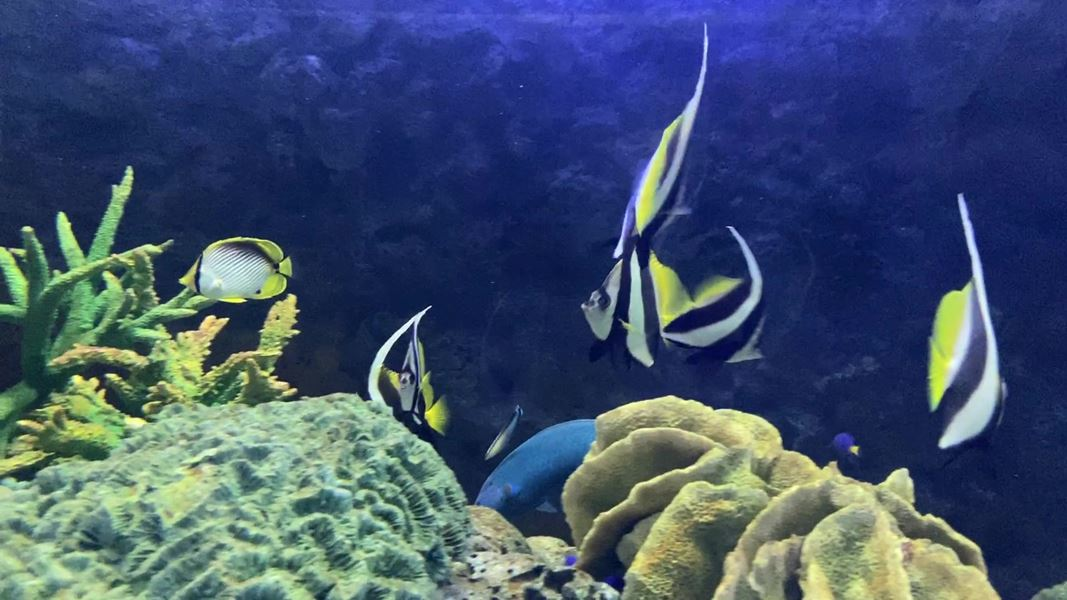Bluesteak cleaner wrasse: (476, 392, 528, 468)
